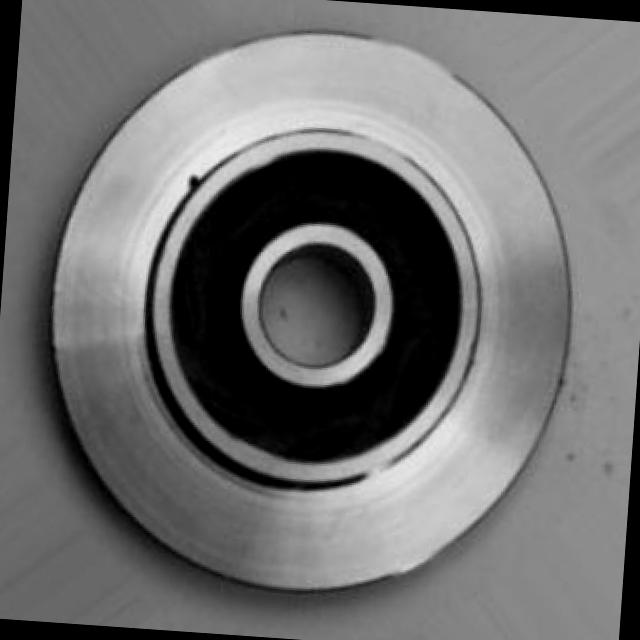Defect: (180, 167, 209, 196)
